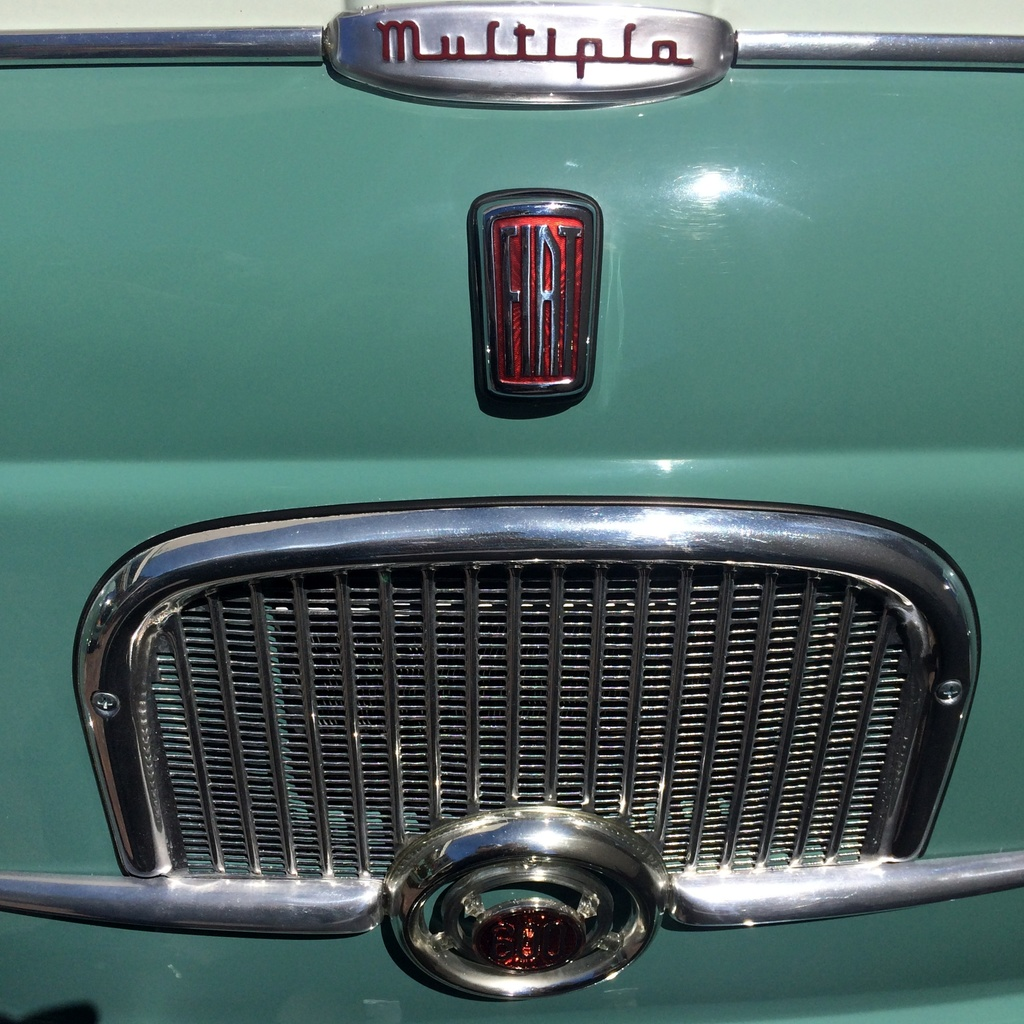Car: (0, 1, 1023, 1023)
